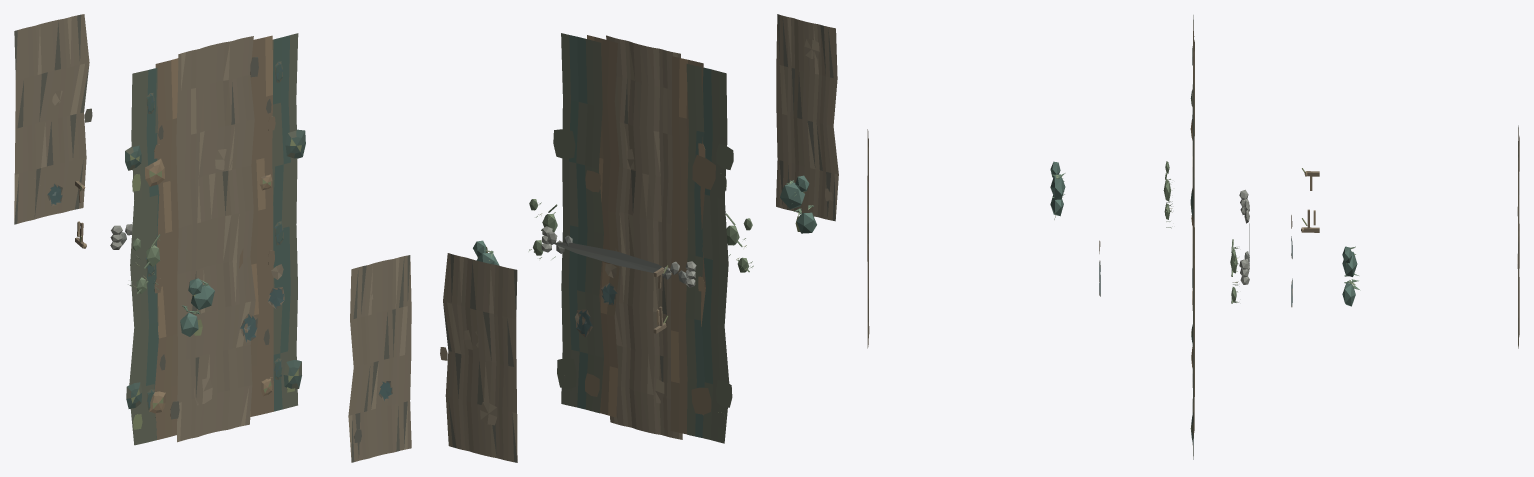
Rendered from urman_wet_village_road_kit.glb.
3 views of the same model, side by side, from view 1: azimuth 30°, elevation 25°; view 2: azimuth 150°, elevation 25°; view 3: azimuth 270°, elevation 25° (orthographic).
Visible parts, largest first — view 1: RoadCrown_SunkenWet_Surface_LOD0, RoadCrown_ApproachWorn_Surface_LOD0, RoadCrown_BranchWet_Surface_LOD0, RoadsideDitch_Left_UnevenChannel_LOD0, RoadsideDitch_Right_UnevenChannel_LOD0, MuddyShoulder_Right_UnevenStrip_LOD0, MuddyShoulder_Left_UnevenStrip_LOD0, RoadsideDitch_Right_TerrainMass_01_LOD0, RoadsideDitch_Right_TerrainMass_00_LOD0, MuddyShoulder_Left_YardBerm_01_LOD0; view 2: RoadCrown_SunkenWet_Surface_LOD0, RoadCrown_ApproachWorn_Surface_LOD0, RoadsideDitch_Right_UnevenChannel_LOD0, RoadsideDitch_Left_UnevenChannel_LOD0, RoadCrown_BranchWet_Surface_LOD0, MuddyShoulder_Left_UnevenStrip_LOD0, MuddyShoulder_Right_UnevenStrip_LOD0, CulvertStoneCrossing_DampBed_LOD0, MuddyShoulder_Left_YardBerm_01_LOD0, RoadsideDitch_Right_TerrainMass_01_LOD0, RoadsideDitch_Right_TerrainMass_00_LOD0, MuddyShoulder_Left_YardBerm_00_LOD0 (+1 smaller); view 3: no part large enough to name.
Part boxes in pixels (box(x1,y1,x2,y2)): RoadCrown_SunkenWet_Surface_LOD0: box(176, 36, 255, 442); RoadCrown_ApproachWorn_Surface_LOD0: box(14, 14, 89, 224); RoadCrown_BranchWet_Surface_LOD0: box(348, 255, 411, 462); RoadsideDitch_Left_UnevenChannel_LOD0: box(129, 67, 159, 445); RoadsideDitch_Right_UnevenChannel_LOD0: box(272, 33, 298, 411); MuddyShoulder_Right_UnevenStrip_LOD0: box(239, 35, 273, 416); MuddyShoulder_Left_UnevenStrip_LOD0: box(154, 58, 178, 439); RoadsideDitch_Right_TerrainMass_01_LOD0: box(285, 129, 305, 158); RoadsideDitch_Right_TerrainMass_00_LOD0: box(283, 360, 301, 389); MuddyShoulder_Left_YardBerm_01_LOD0: box(145, 158, 164, 186); RoadCrown_SunkenWet_Surface_LOD0: box(606, 35, 682, 439); RoadCrown_ApproachWorn_Surface_LOD0: box(443, 253, 517, 462); RoadsideDitch_Right_UnevenChannel_LOD0: box(561, 33, 603, 413); RoadsideDitch_Left_UnevenChannel_LOD0: box(685, 64, 729, 443); RoadCrown_BranchWet_Surface_LOD0: box(776, 14, 838, 221); MuddyShoulder_Left_UnevenStrip_LOD0: box(670, 56, 705, 434); MuddyShoulder_Right_UnevenStrip_LOD0: box(587, 35, 619, 417); CulvertStoneCrossing_DampBed_LOD0: box(551, 242, 671, 274); MuddyShoulder_Left_YardBerm_01_LOD0: box(692, 155, 715, 189); RoadsideDitch_Right_TerrainMass_01_LOD0: box(553, 129, 575, 159); RoadsideDitch_Right_TerrainMass_00_LOD0: box(557, 358, 576, 389); MuddyShoulder_Left_YardBerm_00_LOD0: box(691, 387, 711, 414).
Bounding box in the file's own units: 15.42 × 28 × 43.12.
